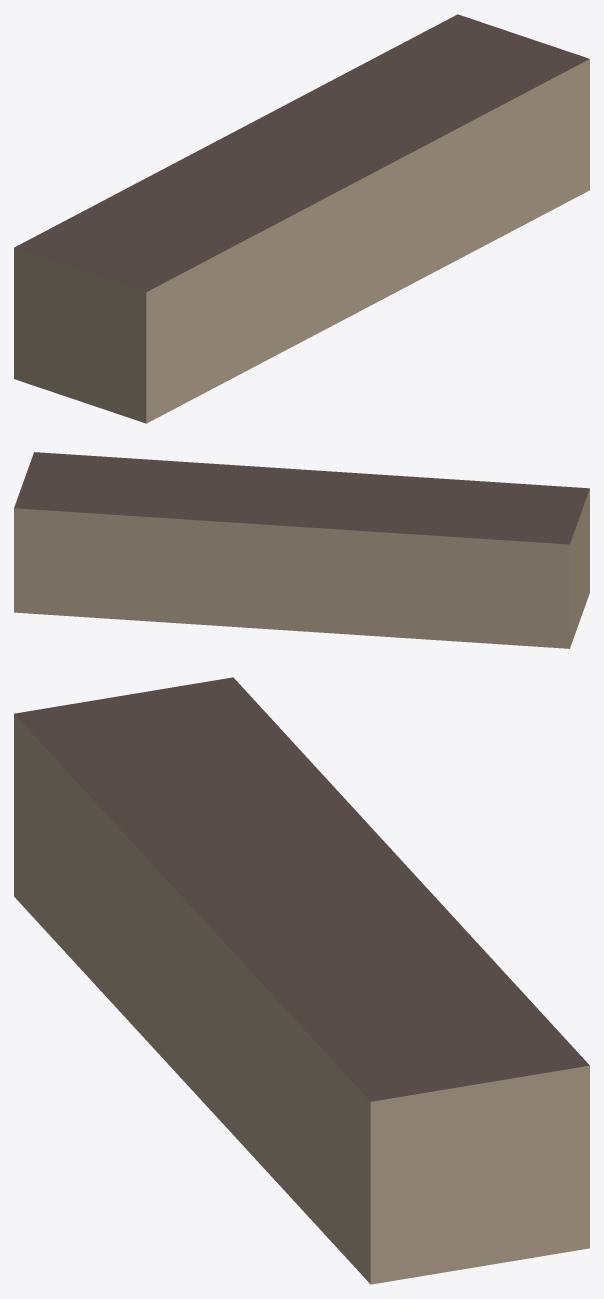
The picture shows the model from 3 angles, top to bottom: view 1: azimuth 30°, elevation 25°; view 2: azimuth 150°, elevation 25°; view 3: azimuth 270°, elevation 25°; orthographic projection. The views are drawn at different scales.
Parts seen in each view (by area): view 1: HP-w1235145929; view 2: HP-w1235145929; view 3: HP-w1235145929.
Boxes of the visible parts, x1,y1,x2,y2 form: HP-w1235145929: (14,14,589,423); HP-w1235145929: (14,452,589,648); HP-w1235145929: (14,677,589,1284).
Size of the model in its own units: 44.82 by 9 by 25.7.
